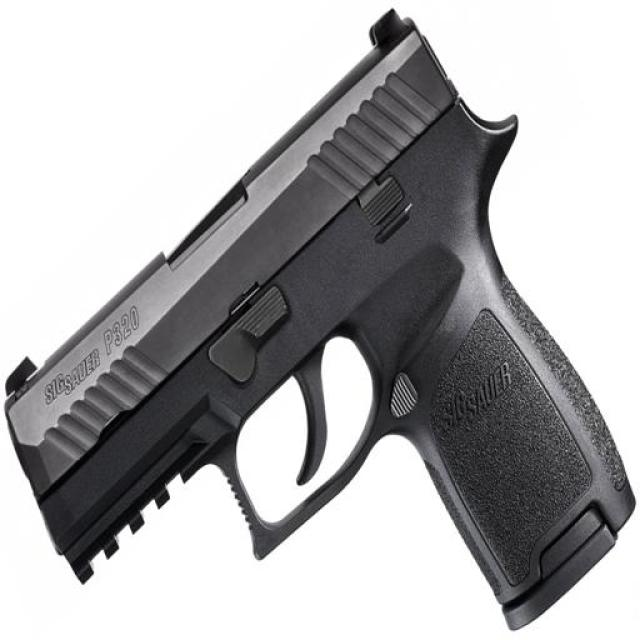pistol: (1, 5, 635, 610)
